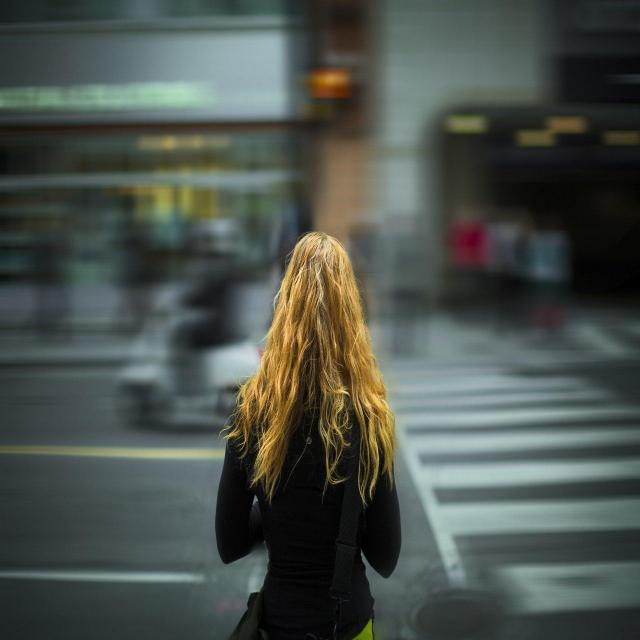person: (204, 224, 420, 640)
